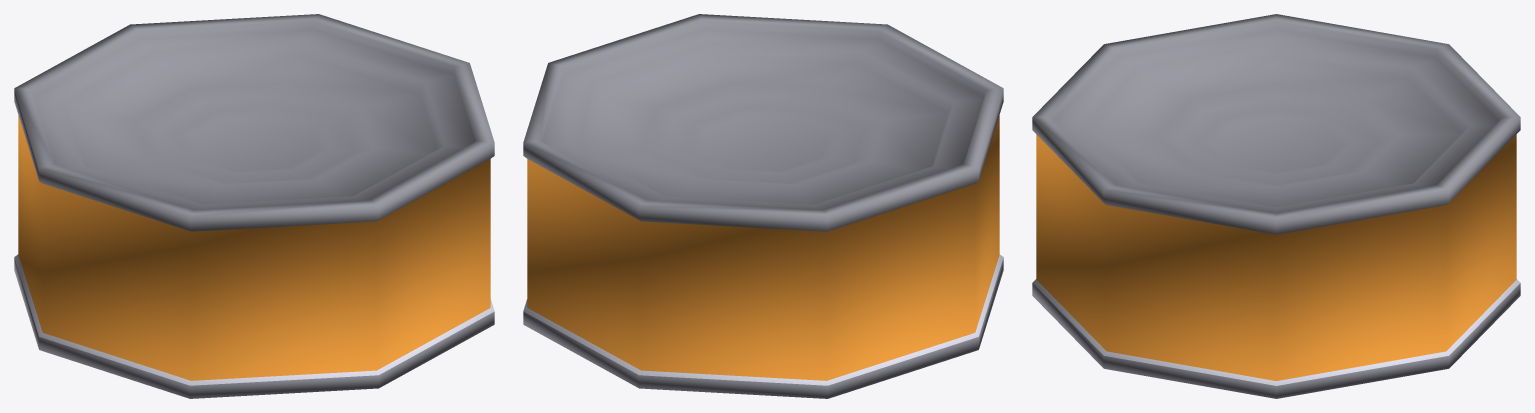
The model's file is Trash-Can2.fbx.
The picture shows the model from 3 angles, left to right: view 1: azimuth 30°, elevation 25°; view 2: azimuth 150°, elevation 25°; view 3: azimuth 270°, elevation 25°; orthographic projection.
Visible parts, largest first — view 1: Circle.003; view 2: Circle.003; view 3: Circle.003.
Boxes of the visible parts, x1,y1,x2,y2 form: Circle.003: (14,14,494,398); Circle.003: (523,14,1003,398); Circle.003: (1032,14,1520,398).
Bounding box in the file's own units: 0.3223 × 0.1301 × 0.3223.
